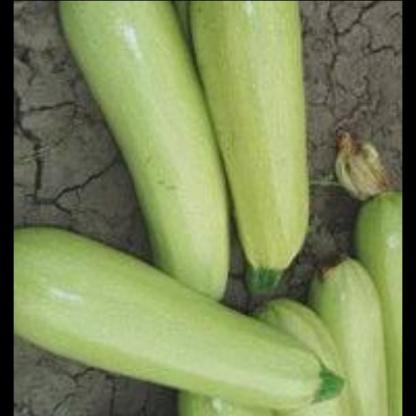vegetable marrow: (14, 216, 361, 416), (53, 0, 244, 320), (276, 184, 403, 415), (225, 2, 320, 295)
